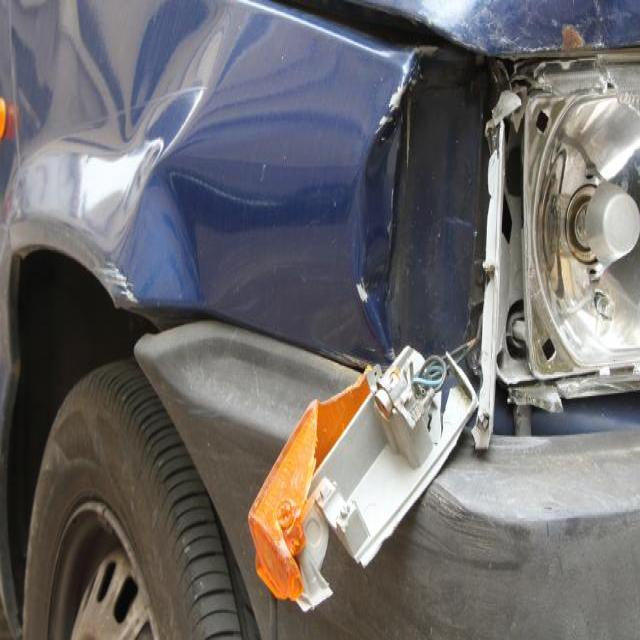Dent: (412, 480, 541, 568), (417, 0, 496, 39), (439, 381, 471, 443), (486, 88, 522, 130), (325, 348, 378, 373), (100, 259, 132, 297), (402, 93, 413, 181), (593, 57, 614, 92), (375, 110, 397, 143), (386, 80, 408, 111), (544, 550, 562, 580), (355, 279, 369, 301), (259, 162, 266, 180), (542, 501, 554, 509)
